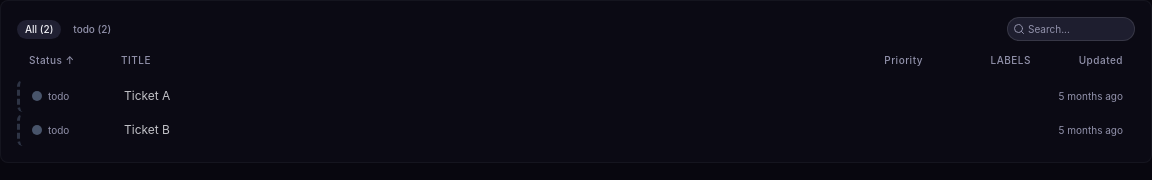
Scenario: TicketListView › search › filters tickets by description match
Step 1. Type "auth" into the field with placeholder "Search..." → x=1071, y=29, box [1007, 17, 1135, 41]
Wait 300 ms
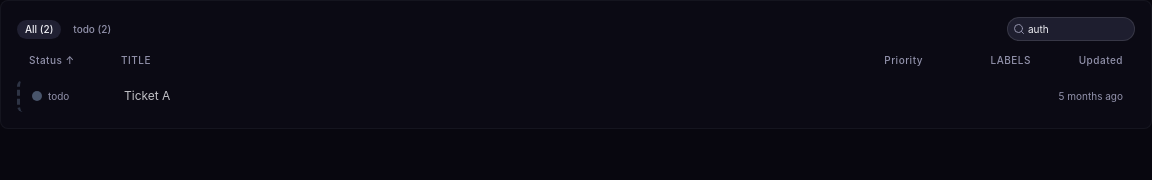
Expected: the text "Ticket A" is shown, [124, 88, 170, 104]
Expected: the button "Ticket B" is gone
